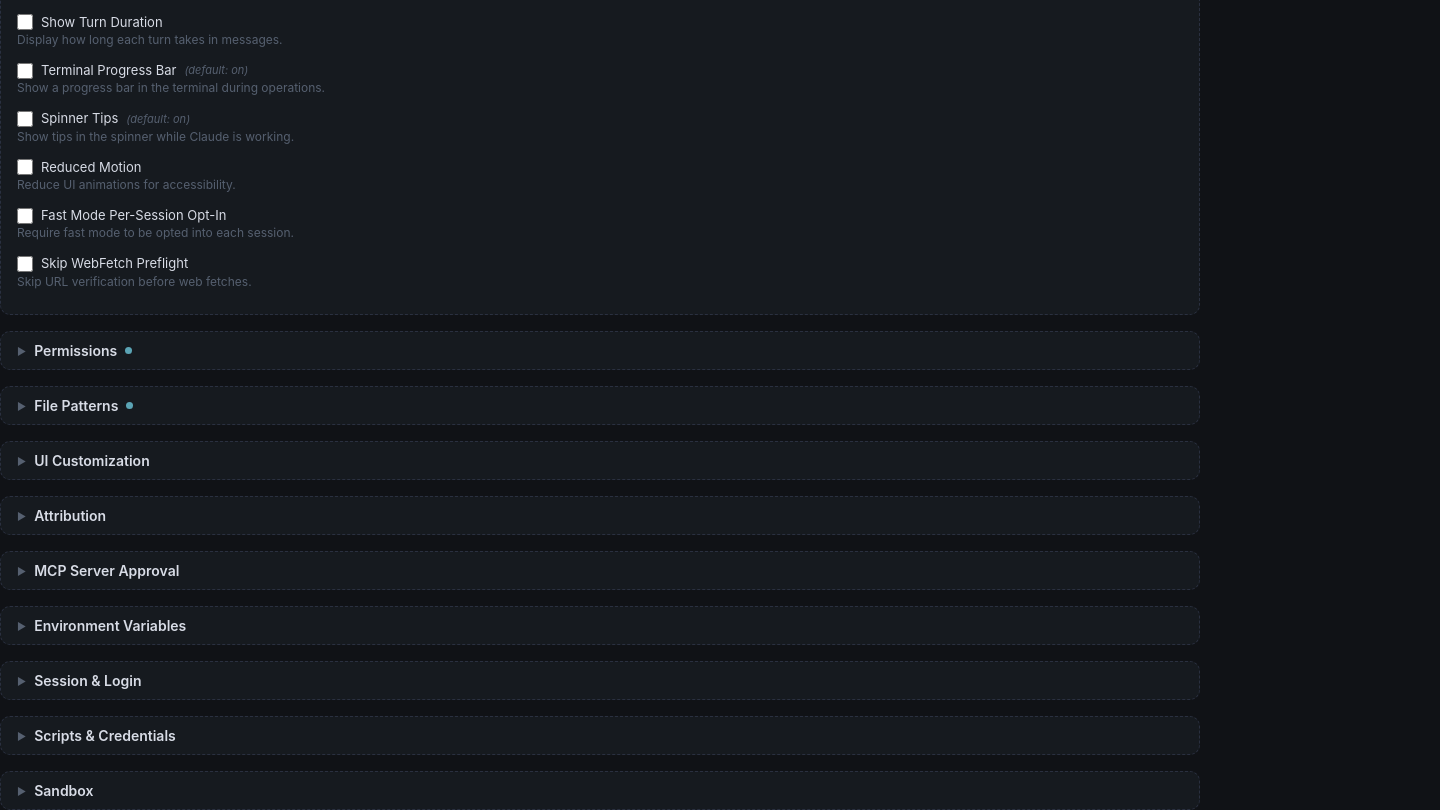
Test case: ConfigPage › can add and remove ignore pattern tags
(page scrolled)
Click the button "▶ File Patterns" at (76, 406), box left=1, top=388, right=1199, bottom=424
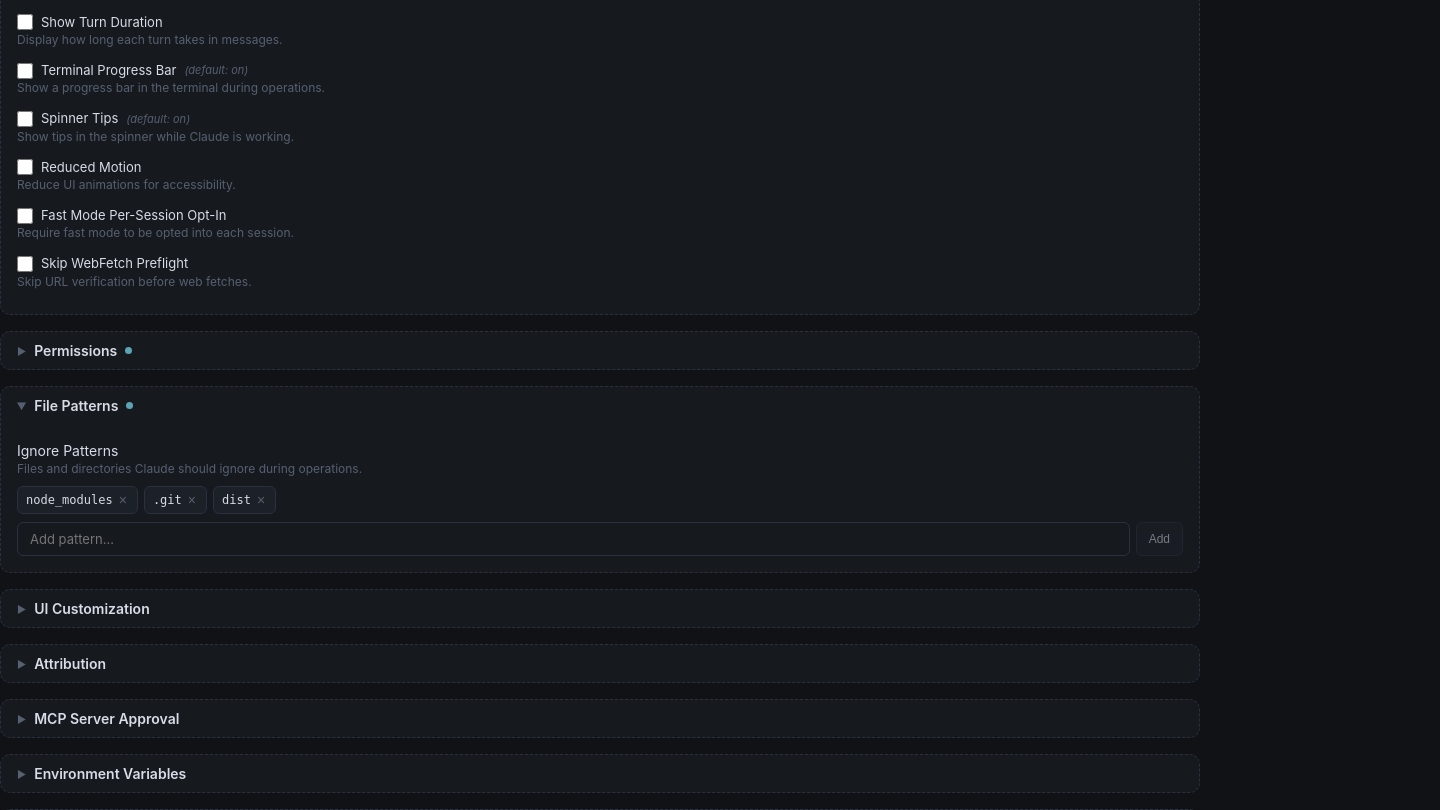
Now the text "node_modules" is shown, box left=26, top=493, right=113, bottom=507
Type "coverage" into the field with placeholder "Add pattern..." at (573, 539), box left=17, top=522, right=1130, bottom=556
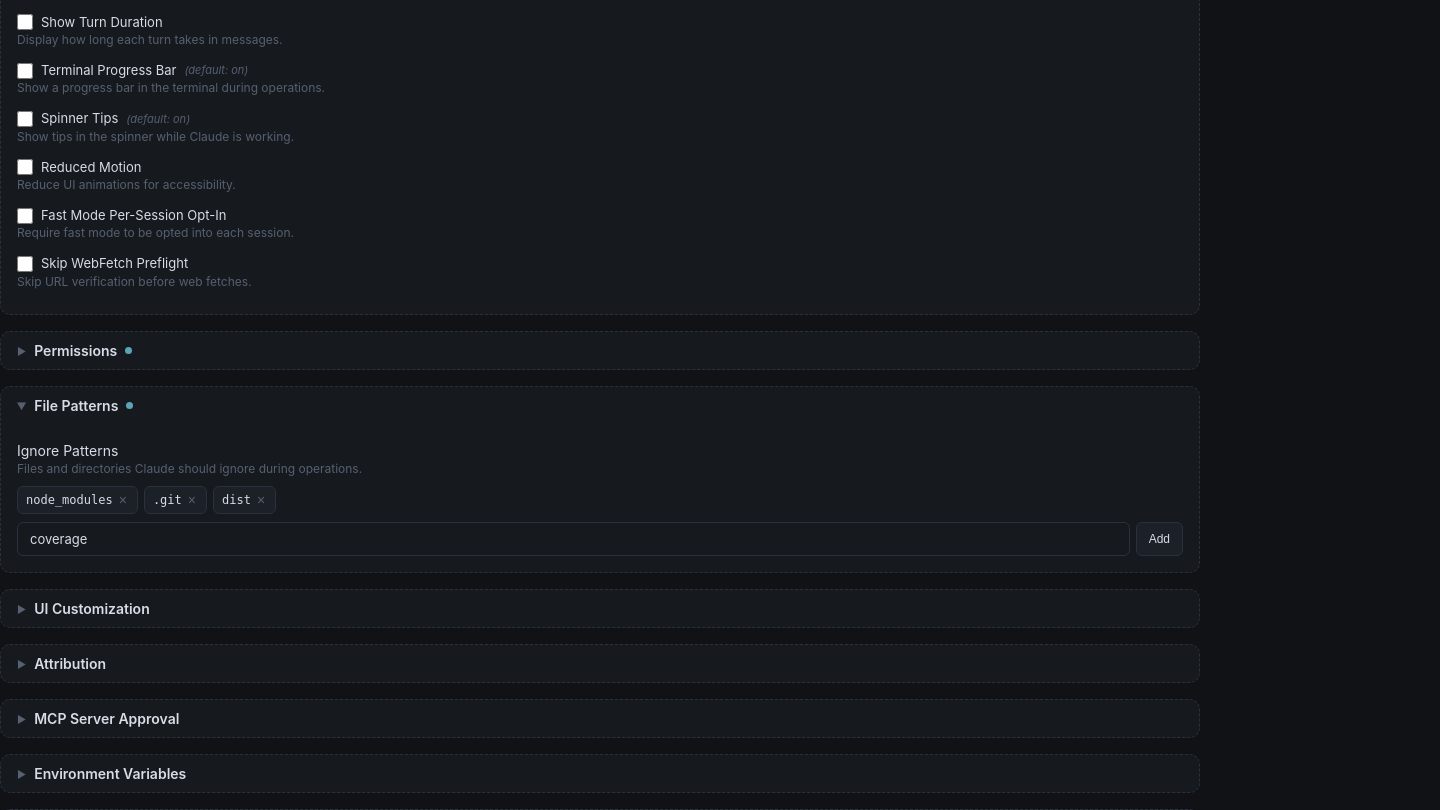
Press Enter in the field with placeholder "Add pattern...", box left=17, top=522, right=1130, bottom=556
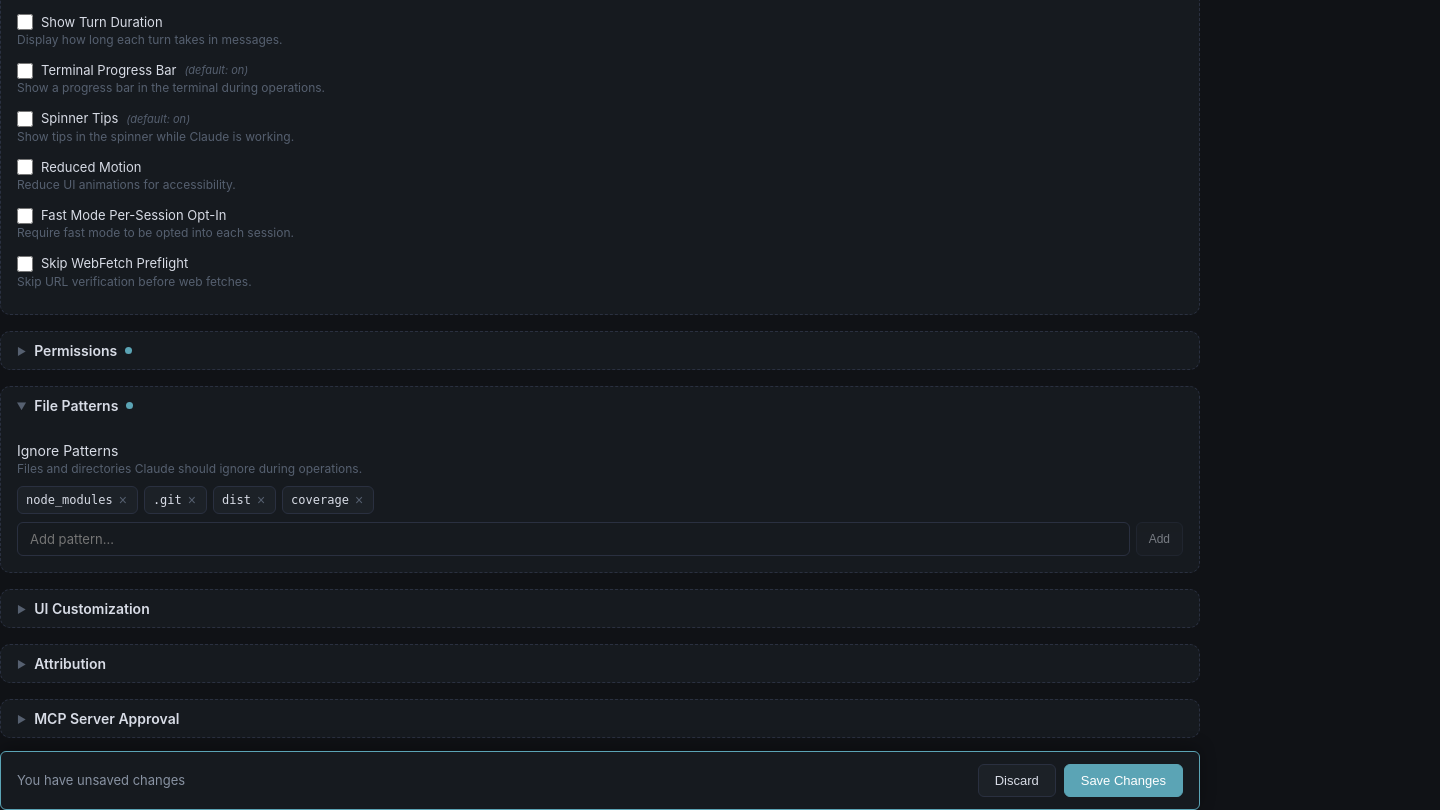
Now the text "coverage" is shown, box left=291, top=493, right=349, bottom=507
Click the button named "Remove node_modules" at (123, 500), box left=117, top=493, right=129, bottom=507
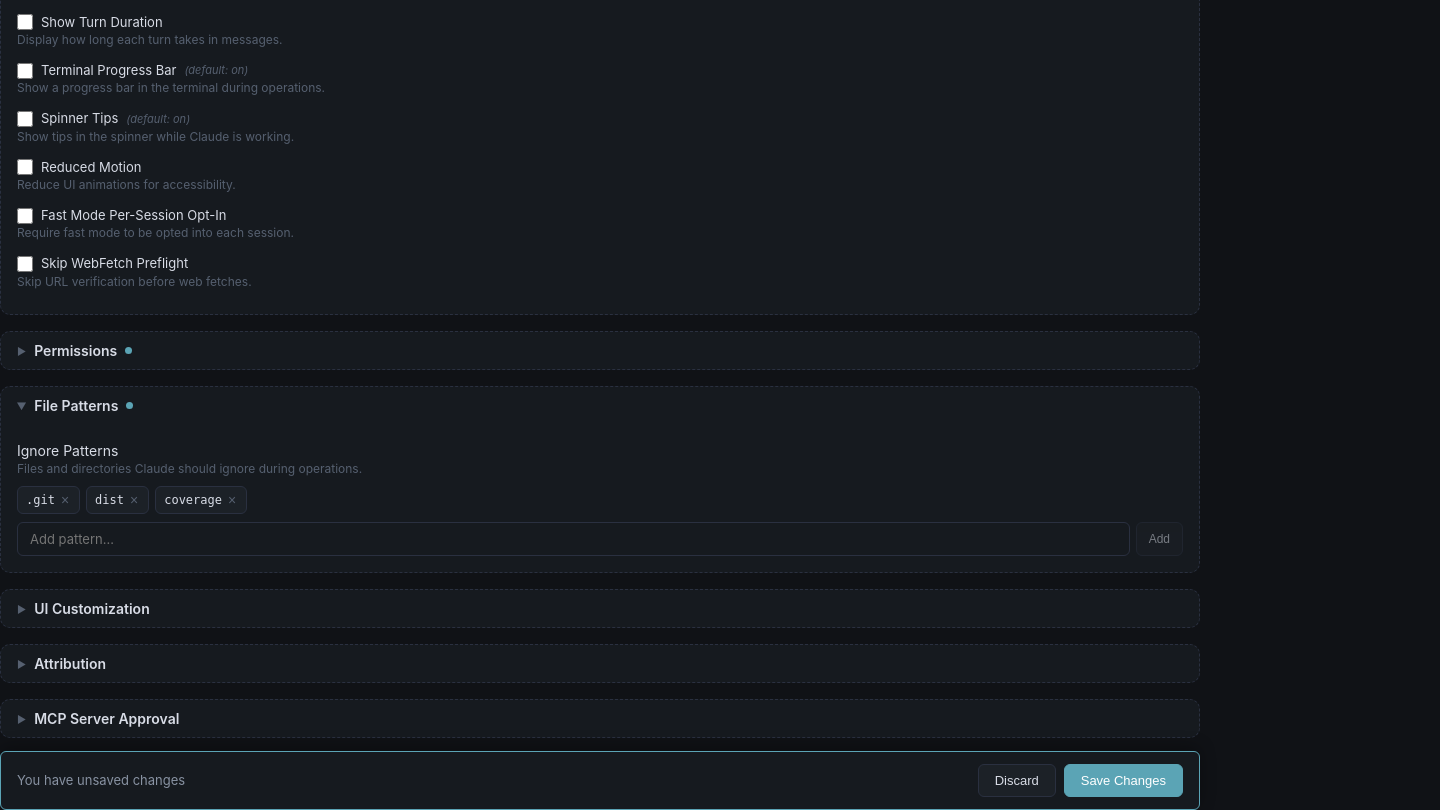
Now the text "node_modules" is gone
